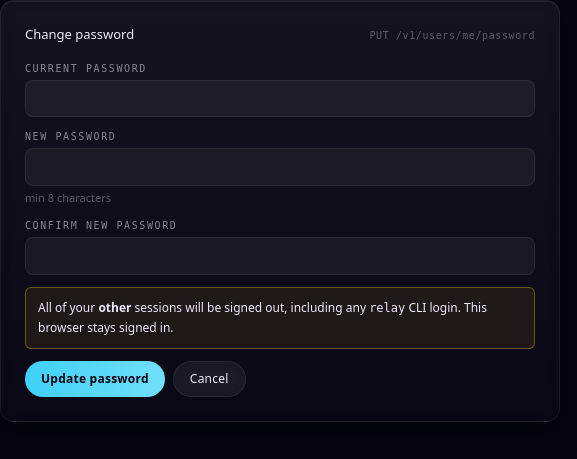
Test: a 7-character new password blocks the request, announced on New password (not Confirm)
Type "old-secret" into the password field labelled "Current password" at (280, 98), box [25,80,535,117]
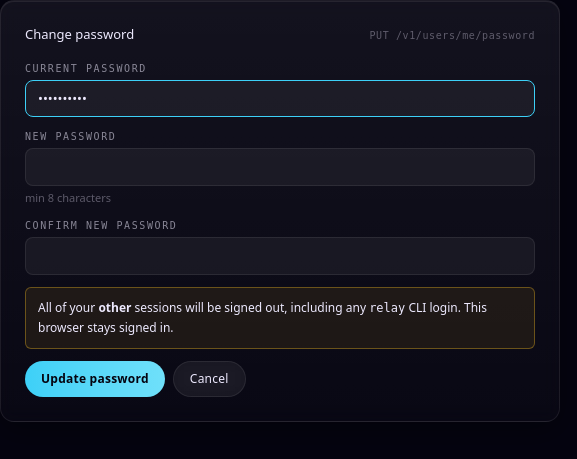
Type "short12" into the password field labelled "New password" at (280, 167), box [25,148,535,186]
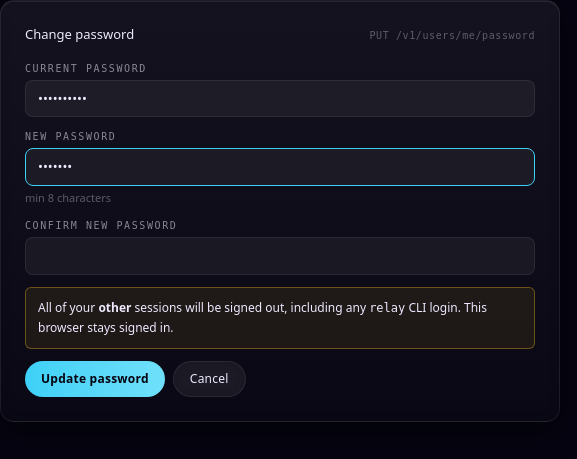
Type "short12" into the password field labelled "Confirm new password" at (280, 256), box [25,237,535,274]
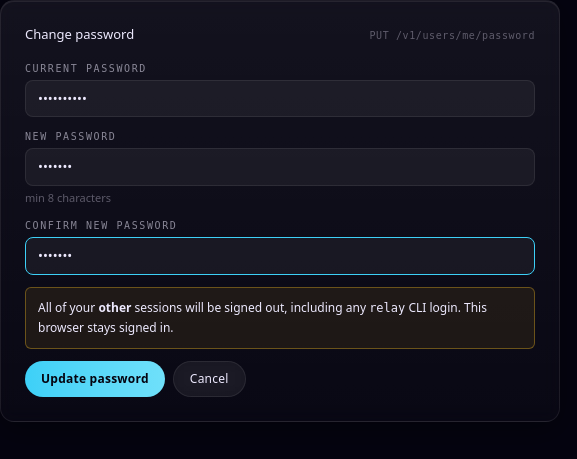
Click the button "Update password" at (95, 378), box [25,360,165,396]
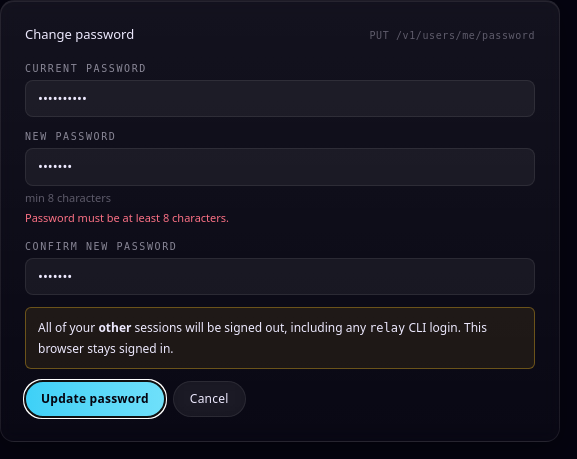
Expected: the message reads "Password must be at least 8 characters.", [25,210,229,225]
